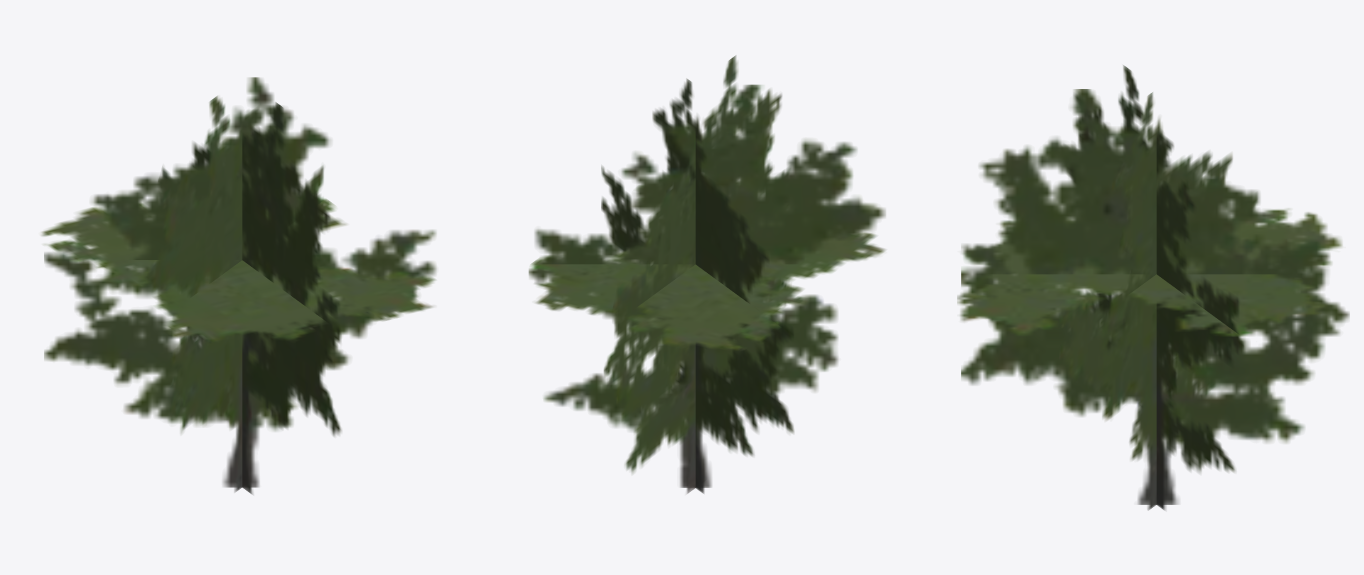
Rendered from toak2_far.glb.
The picture shows the model from 3 angles, left to right: view 1: azimuth 30°, elevation 25°; view 2: azimuth 150°, elevation 25°; view 3: azimuth 270°, elevation 25°; orthographic projection. The views are drawn at different scales.
Visible parts, largest first — view 1: prefab; view 2: prefab; view 3: prefab.
Part boxes in pixels (left/top/right/bottom): prefab: left=41, top=77, right=436, bottom=494; prefab: left=528, top=55, right=885, bottom=493; prefab: left=957, top=65, right=1349, bottom=510.
Size of the model in its own units: 12.32 by 16.14 by 13.96.
1 material, 1 textured.
